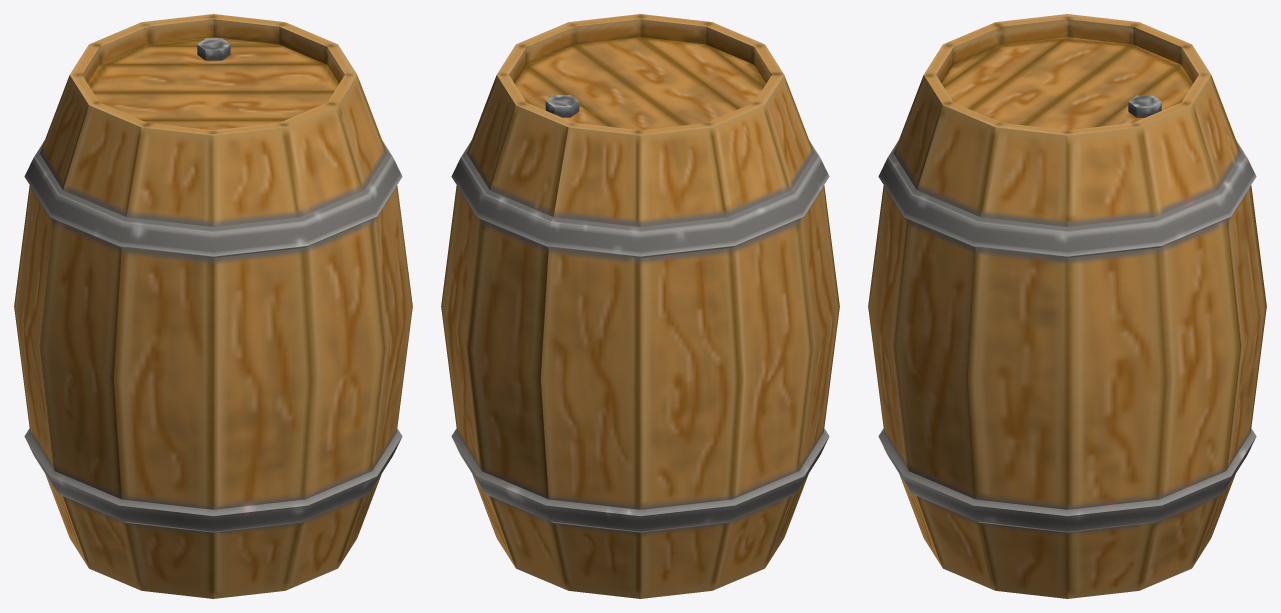
Rendered from Barrel.fbx.
3 renders of one model, left to right at view 1: azimuth 30°, elevation 25°; view 2: azimuth 150°, elevation 25°; view 3: azimuth 270°, elevation 25°, orthographic.
Visible parts, largest first — view 1: Barrel; view 2: Barrel; view 3: Barrel.
Part boxes in pixels (x1,y1,x2,y2): Barrel: (14,14,412,598); Barrel: (441,14,839,598); Barrel: (868,14,1266,598).
Size of the model in its own units: 93.59 by 120 by 93.59.
Materials: 1 (1 with a texture image).
